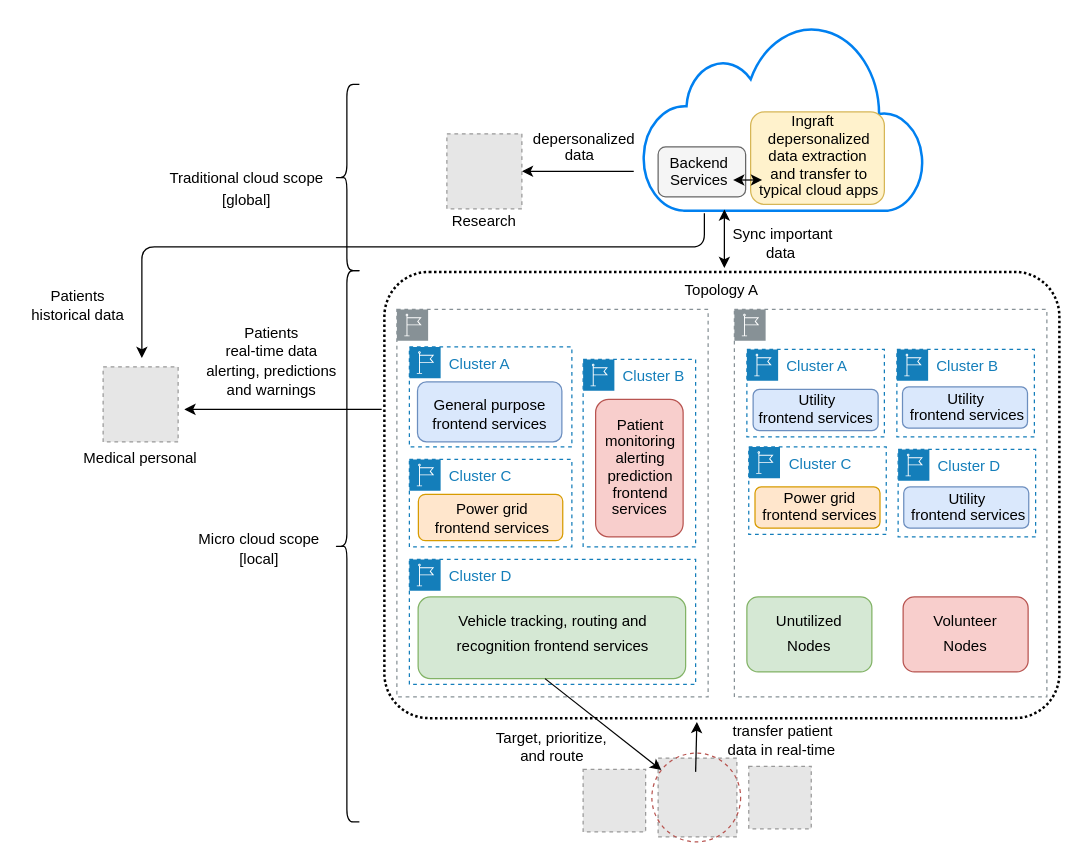
The diagram is 1081 pixels wide and 864 high, and some of its shapes have lost their labels. Grey dashed boxes stand in for pictures. Here are the shapes that lost their labels. From the top down, the box of each, then its label:
(396, 308, 708, 697): Region A [COVID 19 affected]
(733, 308, 1047, 697): Region B [Not affected]
